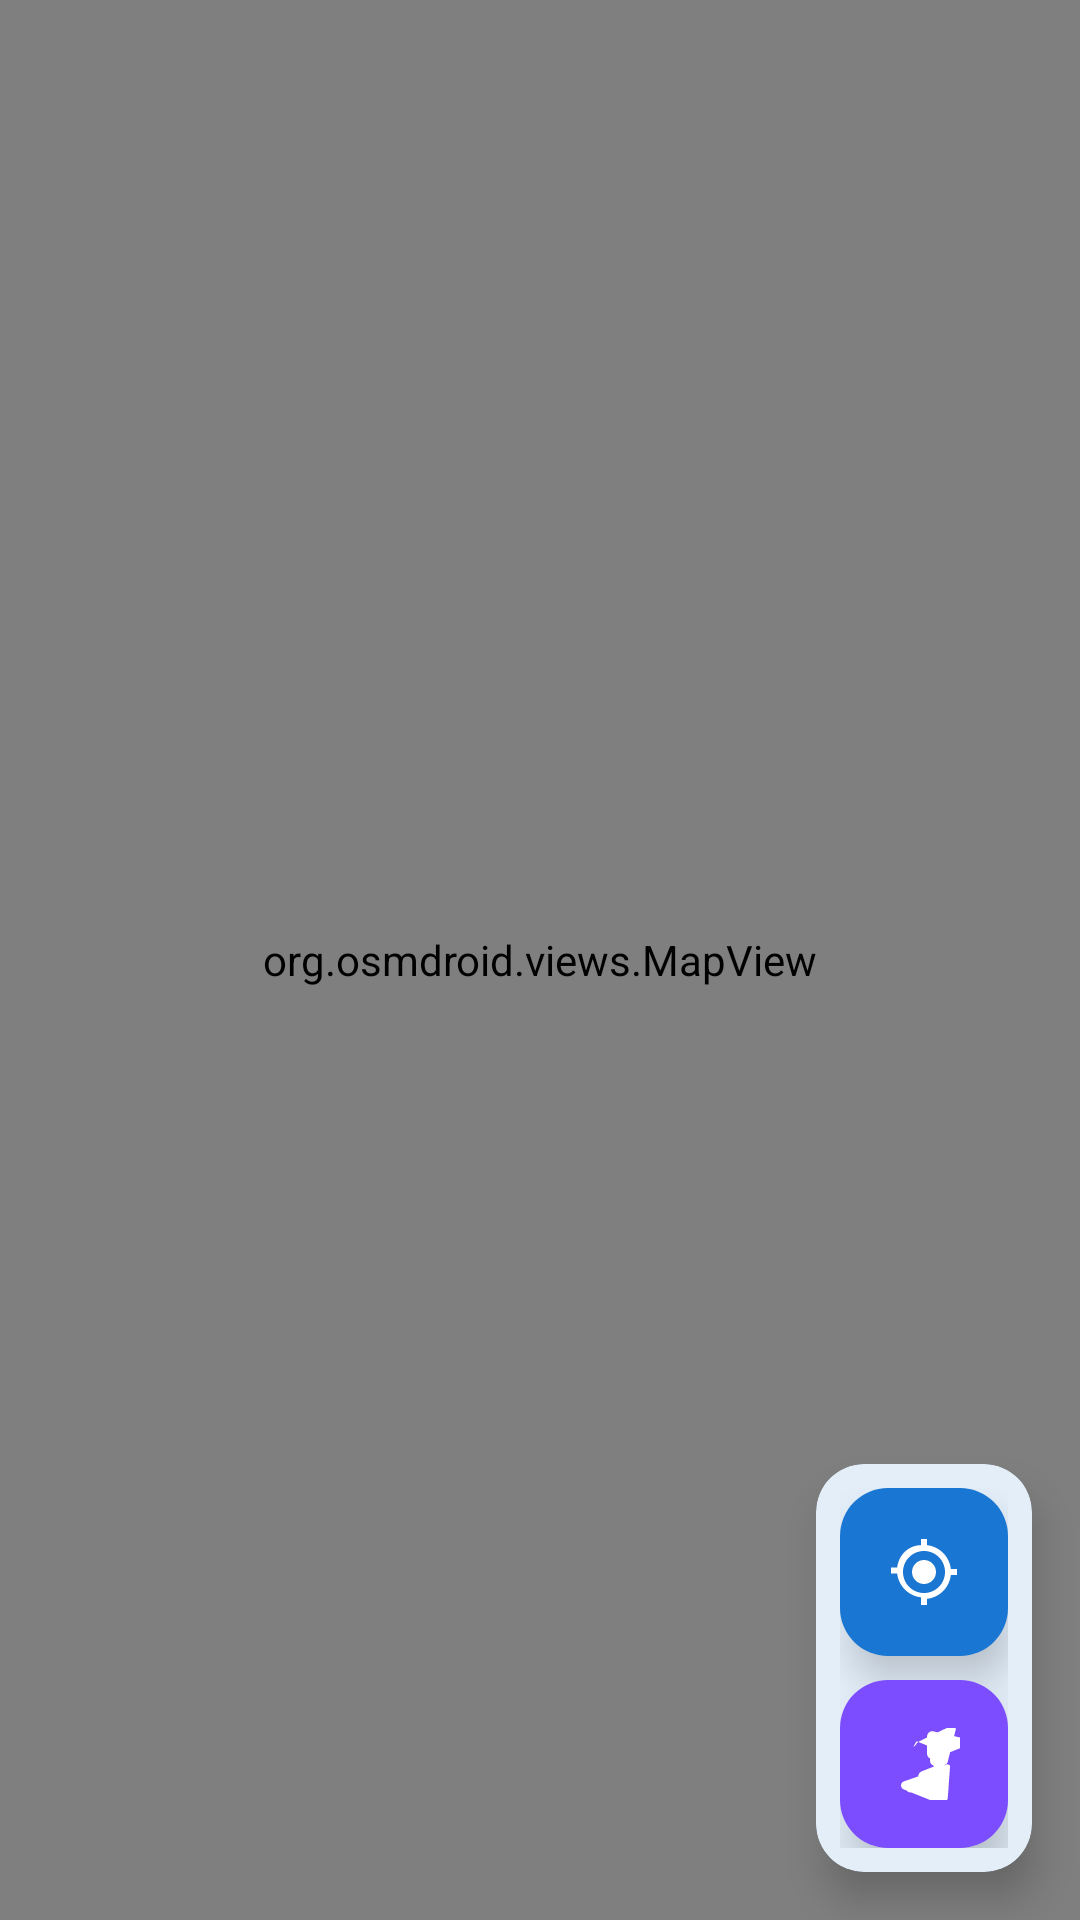

Icons on this 1080*1920 Android screen, each with its box as (x1, y1, x2, y2):
Mi ubicación actual: (840, 1488, 1008, 1656)
